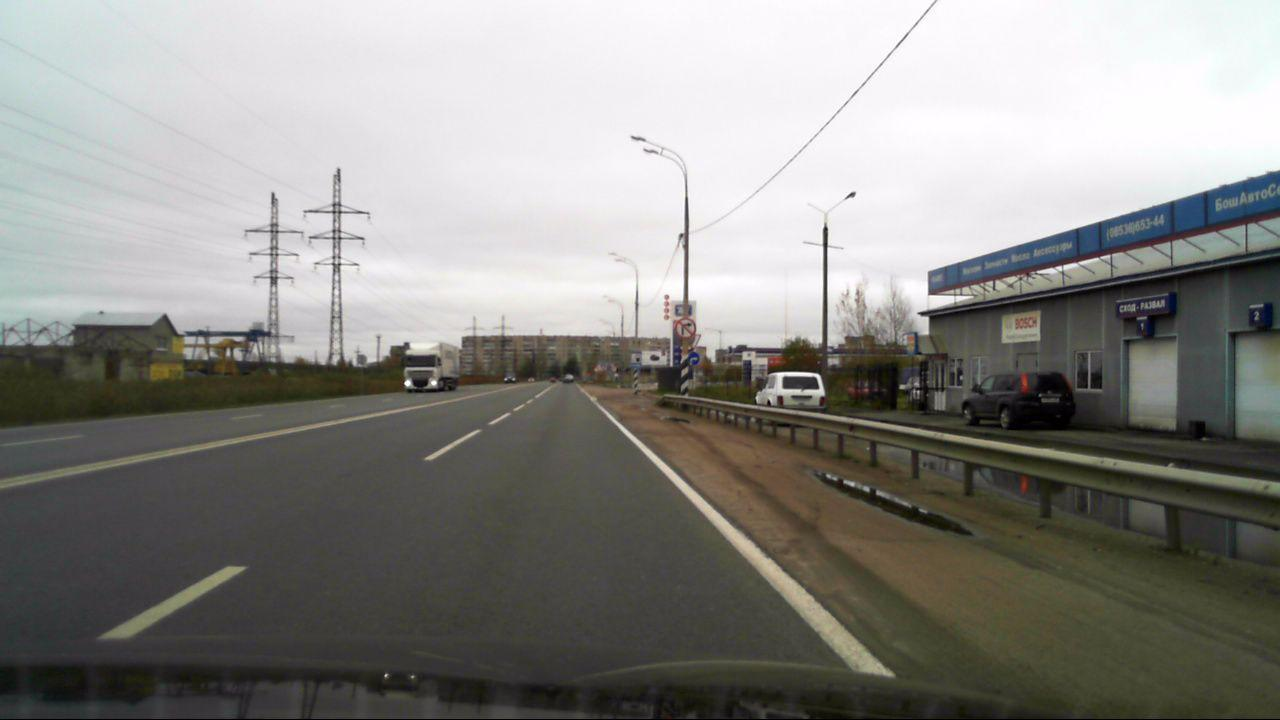road_sign: (675, 317, 696, 338), (687, 350, 700, 368)
